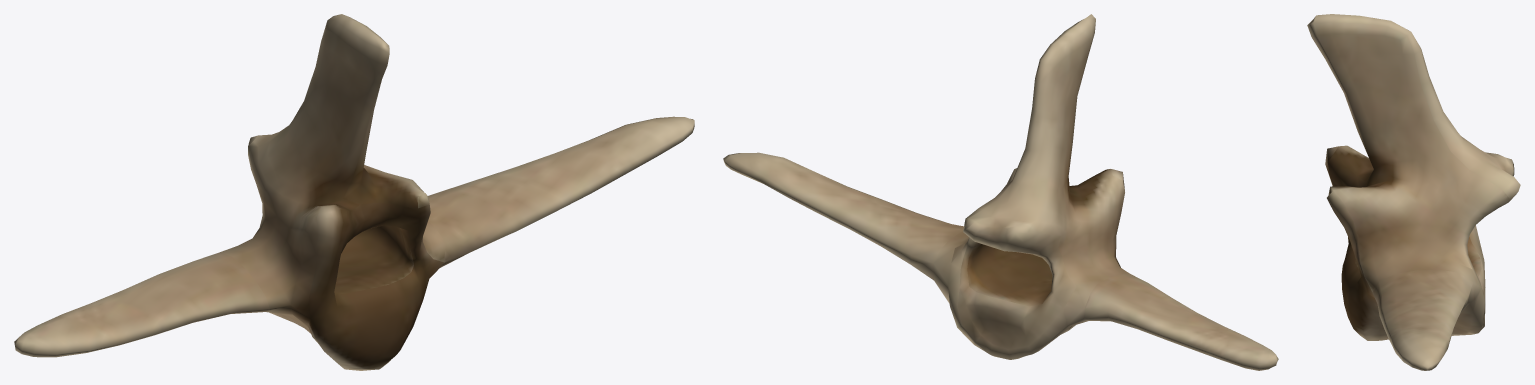
File: Lumbar_Vertebrae.glb
3 views of the same model, side by side, from view 1: azimuth 30°, elevation 25°; view 2: azimuth 150°, elevation 25°; view 3: azimuth 270°, elevation 25° (orthographic). The views are drawn at different scales.
Parts seen in each view (by area): view 1: Horse_low:SelSet_61Merged_L_Frt_Sesamoid_Bones_1; view 2: Horse_low:SelSet_61Merged_L_Frt_Sesamoid_Bones_1; view 3: Horse_low:SelSet_61Merged_L_Frt_Sesamoid_Bones_1.
Boxes of the visible parts, <box> form: Horse_low:SelSet_61Merged_L_Frt_Sesamoid_Bones_1: <box>14,14,694,370</box>; Horse_low:SelSet_61Merged_L_Frt_Sesamoid_Bones_1: <box>723,14,1278,370</box>; Horse_low:SelSet_61Merged_L_Frt_Sesamoid_Bones_1: <box>1307,14,1520,370</box>.
Size of the model in its own units: 0.2678 by 0.1379 by 0.084.
1 material, 1 textured.
